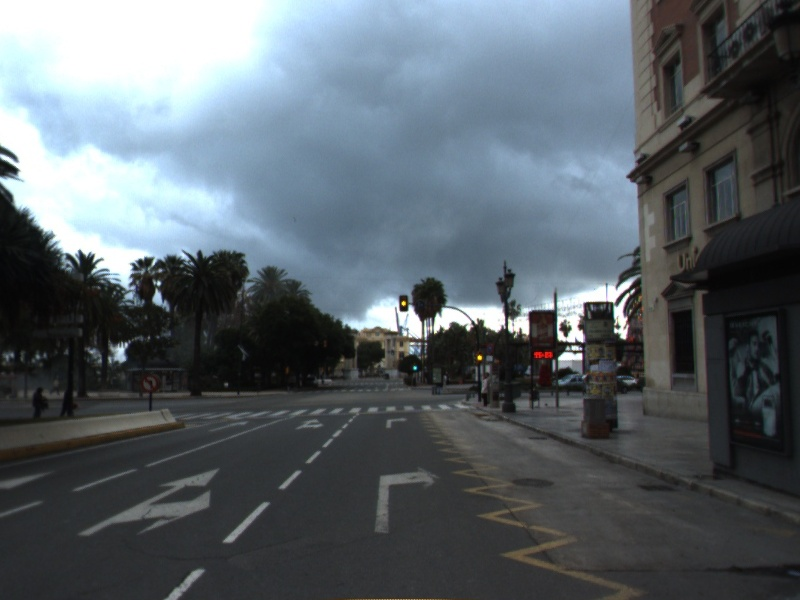RIGHT: (369, 463, 445, 535), (383, 415, 411, 430)
STRAIGHT: (206, 418, 252, 434)
STRAIGHT_RIGHT: (73, 465, 224, 539), (292, 416, 327, 432)
